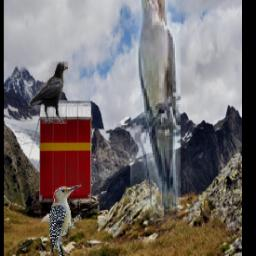Crow: (27, 63, 67, 125)
Cuckoo: (130, 0, 181, 256)
Woodpecker: (49, 184, 83, 256)
